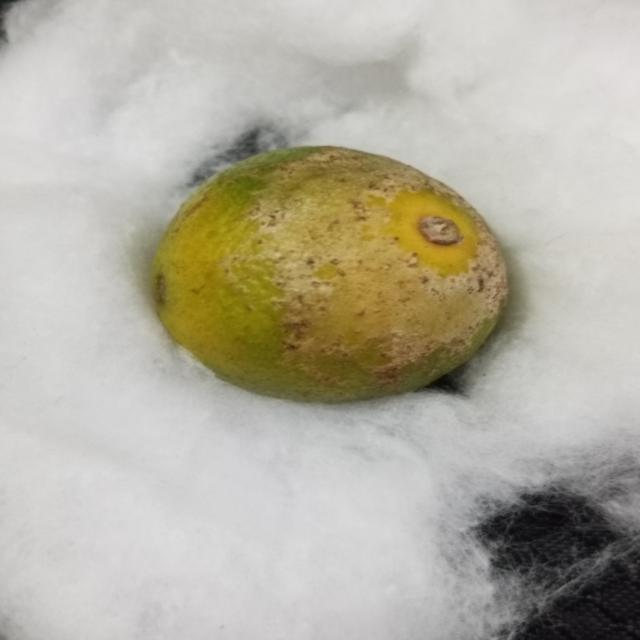thrips: (149, 142, 518, 404)
